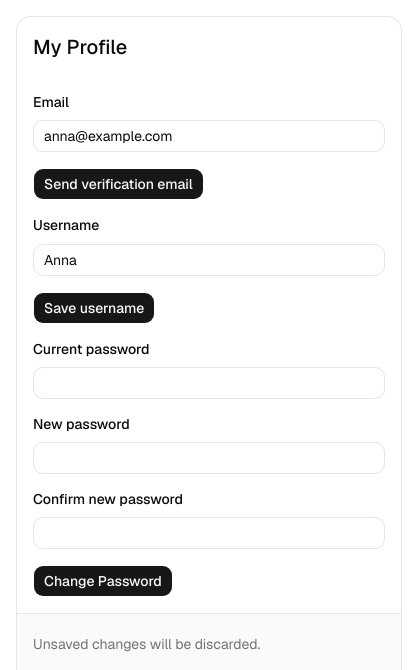
Test case: does not save an unverified email to User Service
expect the field labelled "Username" holds "Anna": met, box [33,244,385,276]
Replace the text in the field labelled "Email" with "new@example.com": {"x": 209, "y": 136} [33,120,385,152]
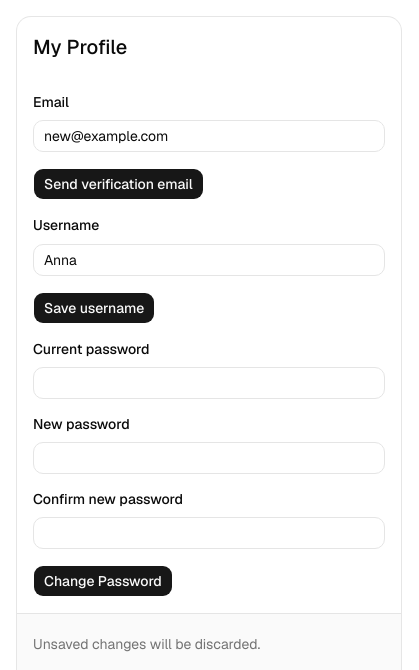
Click the button "Send verification email": {"x": 118, "y": 184} [33,168,204,200]
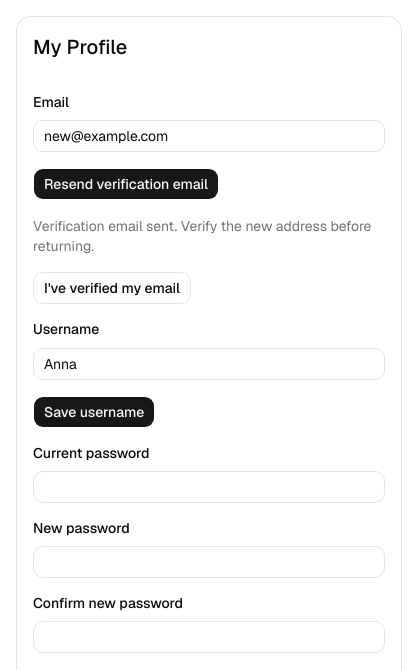
expect the button "I've verified my email" is shown: met
Click the button "I've verified my email": {"x": 112, "y": 288} [33,272,191,304]
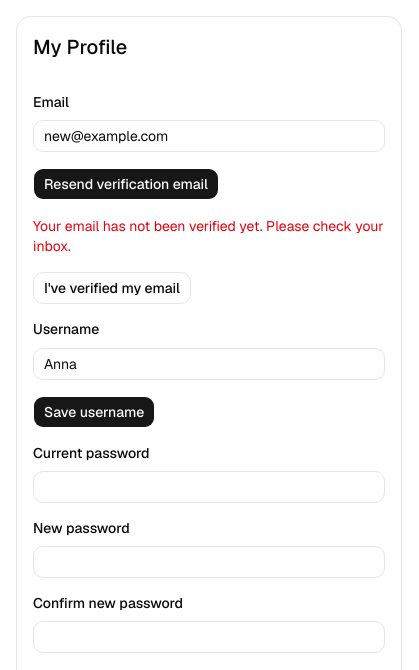
expect the text "Your email has not been verified yet. Please check your inbox." is shown: met, box [33,216,385,256]
